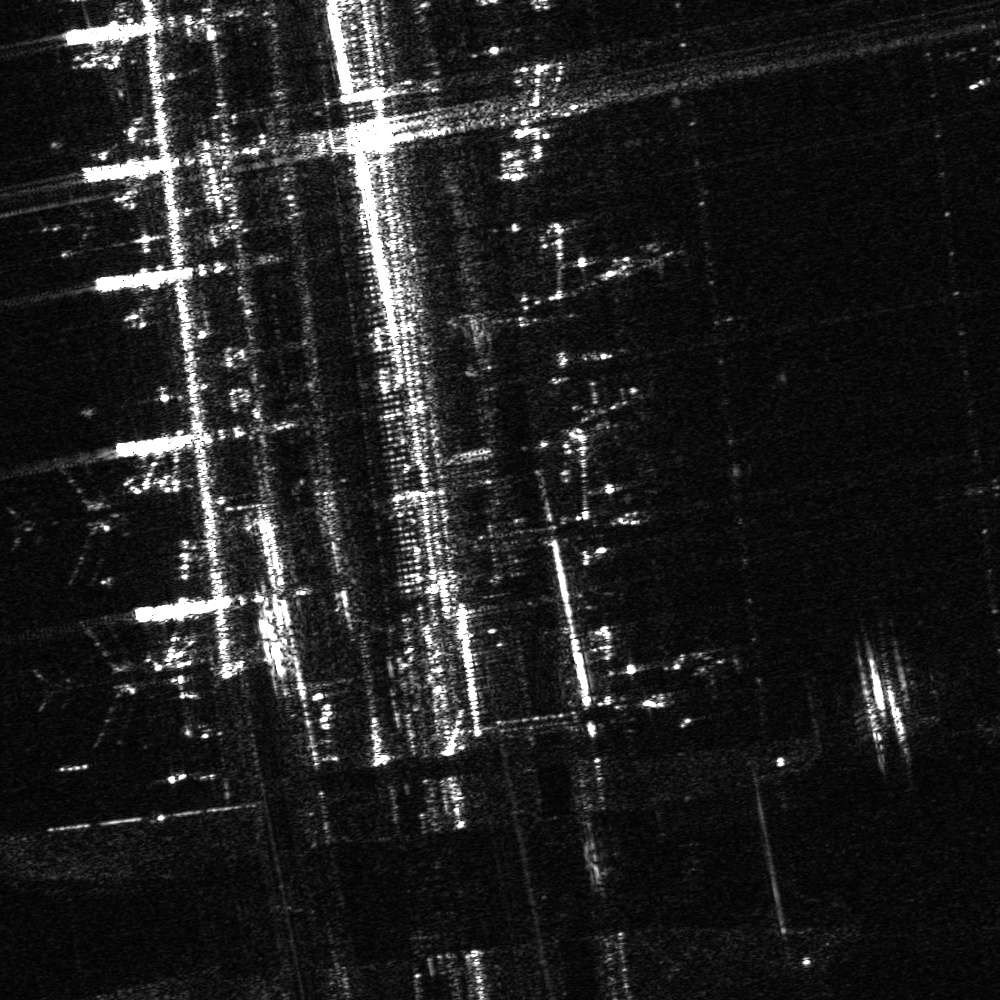A220: (36, 193, 111, 250)
A330: (25, 622, 171, 750)
Boeing787: (3, 459, 135, 587)
